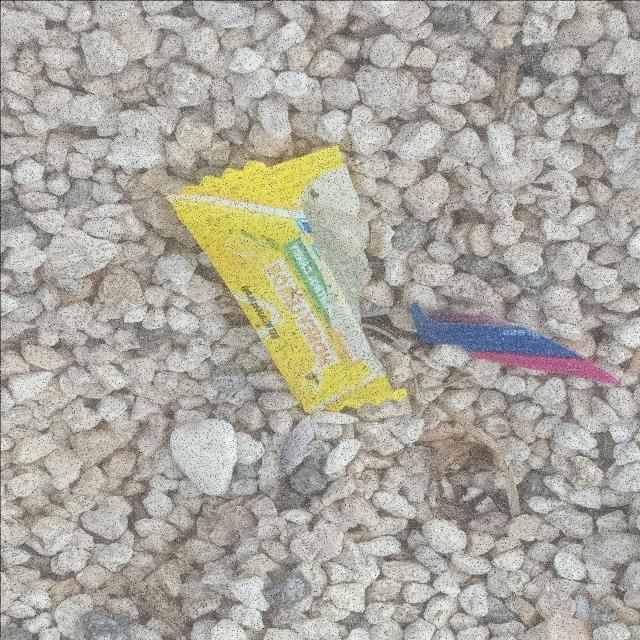plastic_waste: (165, 144, 409, 416), (408, 302, 624, 387)
